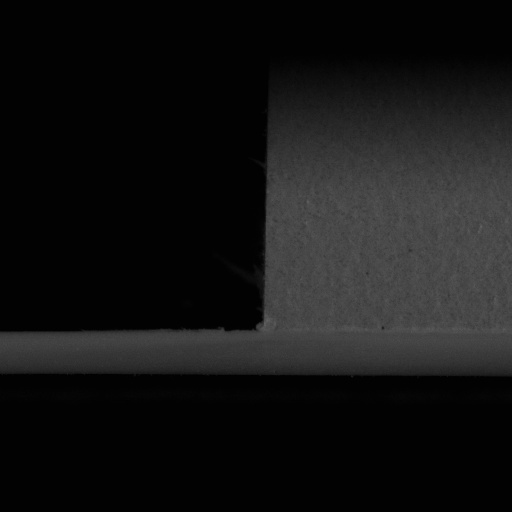changdai: (0, 325, 268, 380)
